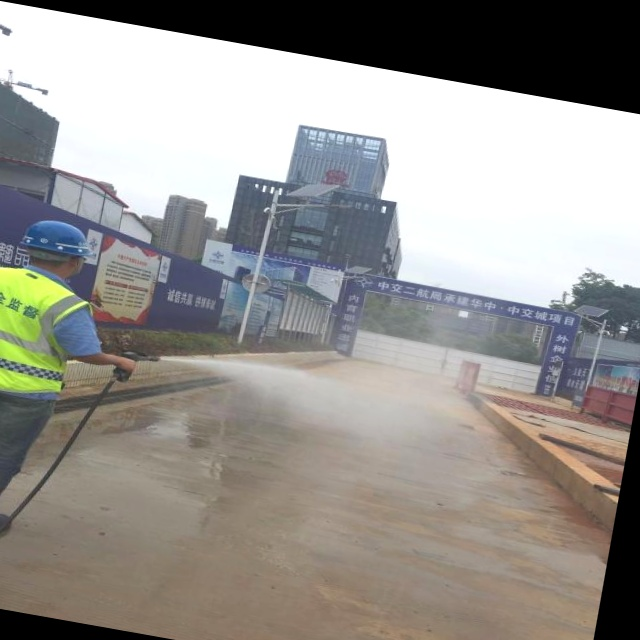Con_Casco: (18, 216, 95, 280)
Con_Chaleco: (0, 263, 90, 401)
